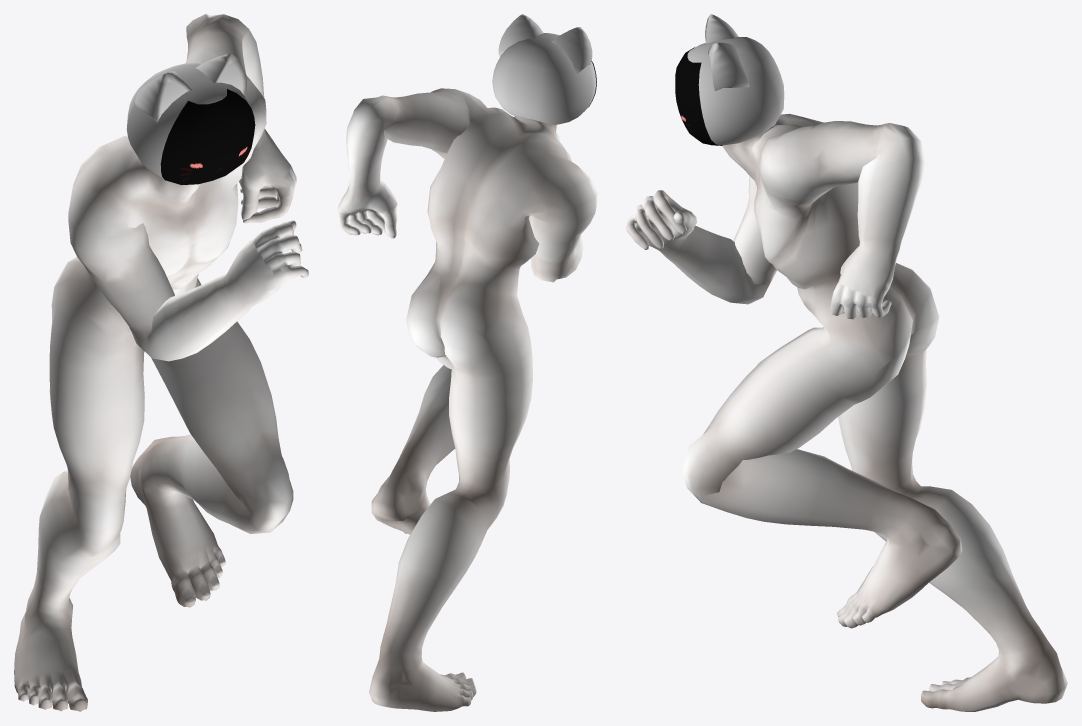
The picture shows the model from 3 angles, left to right: view 1: azimuth 30°, elevation 25°; view 2: azimuth 150°, elevation 25°; view 3: azimuth 270°, elevation 25°; orthographic projection. The views are drawn at different scales.
Parts seen in each view (by area): view 1: Muscle_Body, Cat_Head, ______?001; view 2: Muscle_Body, Cat_Head; view 3: Muscle_Body, Cat_Head, ______?001.
Part boxes in pixels (x1,y1,x2,y2): Muscle_Body: (14,14,308,711); Cat_Head: (126,53,248,178); ______?001: (160,89,255,184); Muscle_Body: (337,88,597,711); Cat_Head: (492,14,596,124); Muscle_Body: (626,113,1067,711); Cat_Head: (687,14,784,145); ______?001: (675,47,722,145).
Size of the model in its own units: 9.89 by 26.36 by 15.5.
